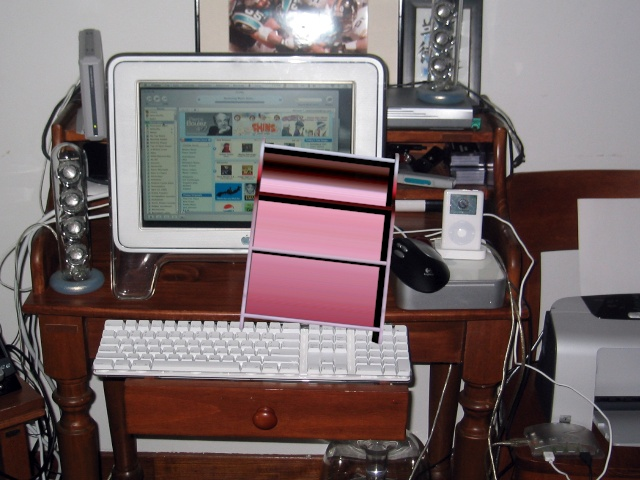bookcase: (233, 129, 401, 353)
